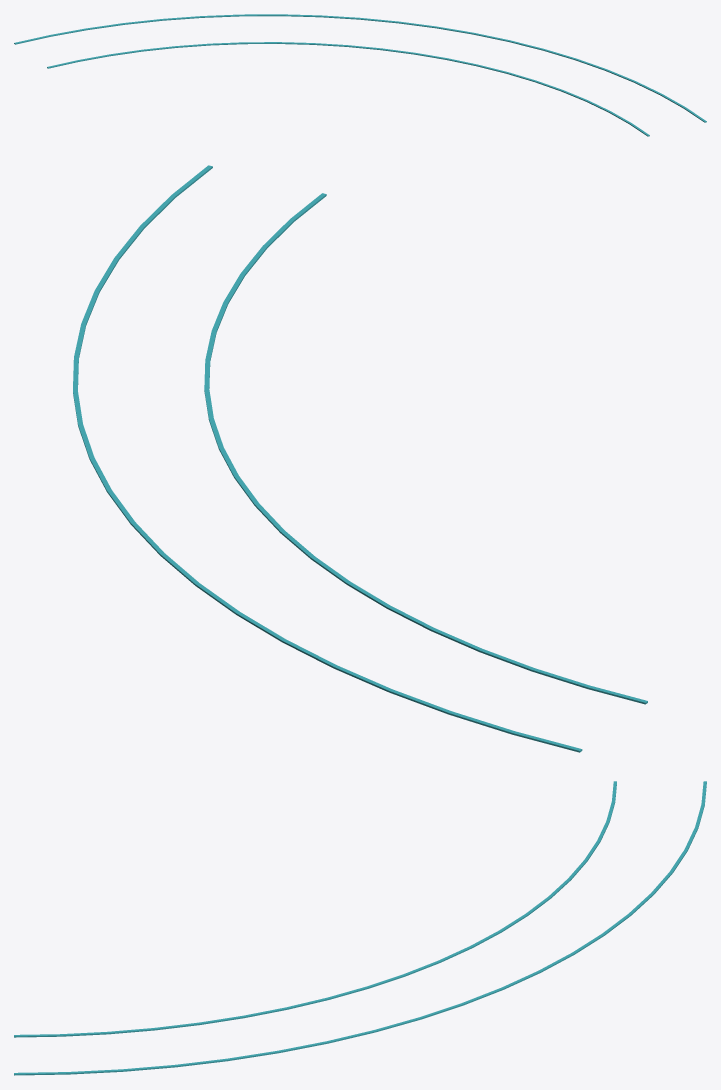
Rendered from SM_tromway_paths_05.glb.
3 views of the same model, one above another, from view 1: azimuth 30°, elevation 25°; view 2: azimuth 150°, elevation 25°; view 3: azimuth 270°, elevation 25° (orthographic). The views are drawn at different scales.
Parts seen in each view (by area): view 1: SM_tromway_paths_05; view 2: SM_tromway_paths_05; view 3: SM_tromway_paths_05.
Boxes of the visible parts, x1,y1,x2,y2 form: SM_tromway_paths_05: (14,14,706,136); SM_tromway_paths_05: (73,165,647,752); SM_tromway_paths_05: (14,781,706,1075).
Size of the model in its own units: 10 by 0.0183 by 10.
Materials: 1 (1 with a texture image).
